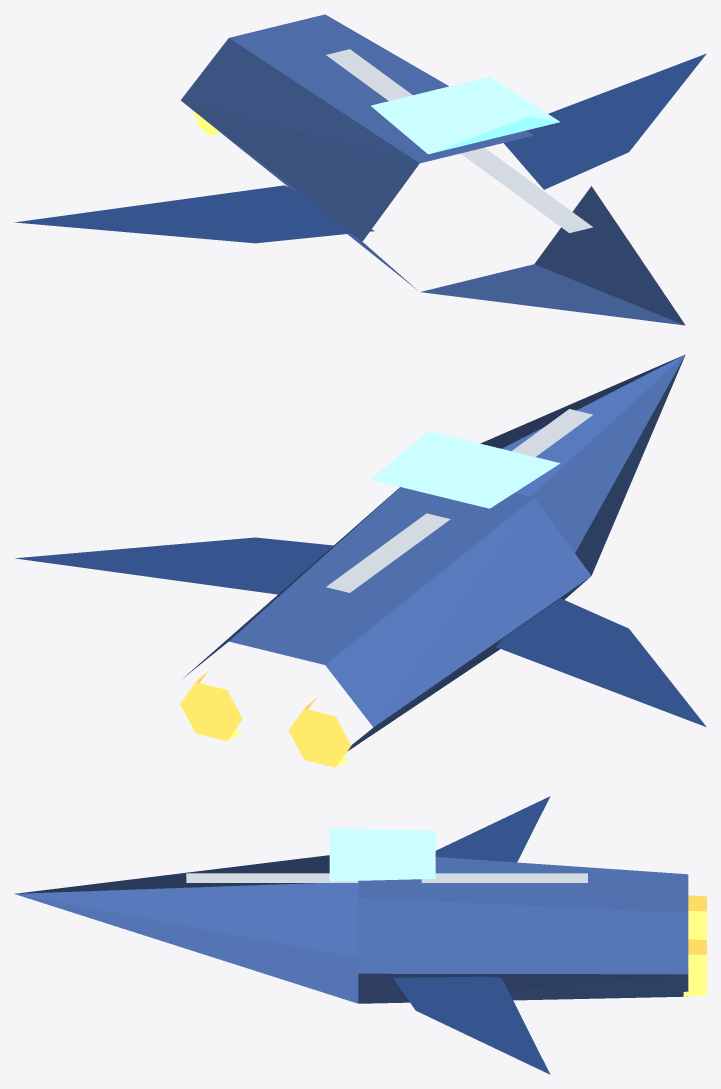
Rendered from player.glb.
3 views of the same model, one above another, from view 1: azimuth 30°, elevation 25°; view 2: azimuth 150°, elevation 25°; view 3: azimuth 270°, elevation 25° (orthographic). The views are drawn at different scales.
Parts seen in each view (by area): view 1: HullMesh, Wing-L, Wing-R, Canopy, Stripe; view 2: HullMesh, Wing-L, Wing-R, Canopy, Stripe, Engine-L, Engine-R; view 3: HullMesh, Wing-R, Canopy, Wing-L, Stripe, Engine-R, Engine-L.
Part boxes in pixels (x1=…): HullMesh: x1=180, y1=14, x2=685, y2=325; Wing-L: x1=14, y1=185, x2=374, y2=243; Wing-R: x1=504, y1=53, x2=706, y2=189; Canopy: x1=371, y1=76, x2=559, y2=154; Stripe: x1=326, y1=49, x2=592, y2=232; HullMesh: x1=184, y1=354, x2=685, y2=751; Wing-L: x1=496, y1=598, x2=706, y2=726; Wing-R: x1=15, y1=537, x2=333, y2=594; Canopy: x1=371, y1=431, x2=560, y2=508; Stripe: x1=326, y1=409, x2=592, y2=592; Engine-L: x1=288, y1=697, x2=351, y2=767; Engine-R: x1=180, y1=671, x2=242, y2=740; HullMesh: x1=14, y1=855, x2=688, y2=1003; Wing-R: x1=393, y1=976, x2=550, y2=1074; Canopy: x1=329, y1=828, x2=435, y2=881; Wing-L: x1=435, y1=796, x2=550, y2=862; Stripe: x1=186, y1=873, x2=587, y2=882; Engine-R: x1=683, y1=939, x2=706, y2=996; Engine-L: x1=688, y1=895, x2=706, y2=940.
Size of the model in its own units: 2.3 by 0.634 by 2.42.
